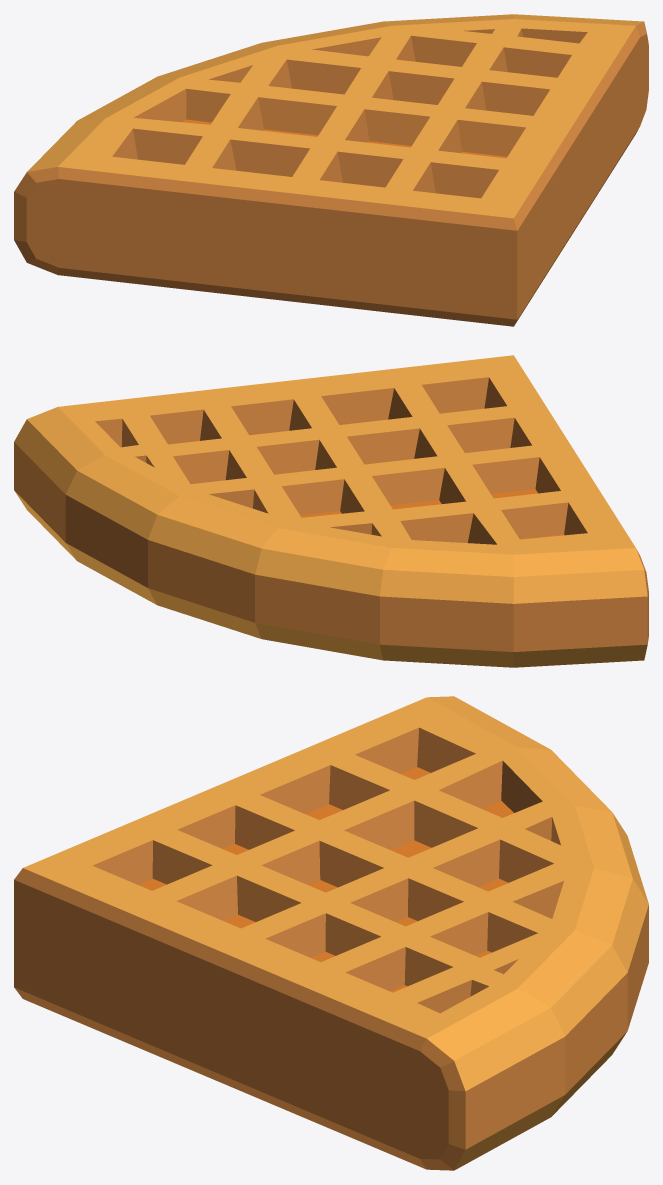
The model's file is Waffle_One_Piece.fbx.
3 renders of one model, top to bottom at view 1: azimuth 30°, elevation 25°; view 2: azimuth 150°, elevation 25°; view 3: azimuth 270°, elevation 25°, orthographic. The views are drawn at different scales.
Visible parts, largest first — view 1: Waffle_One_Piece; view 2: Waffle_One_Piece; view 3: Waffle_One_Piece.
Part boxes in pixels (x1=…): Waffle_One_Piece: x1=14, y1=14, x2=648, y2=326; Waffle_One_Piece: x1=14, y1=355, x2=648, y2=667; Waffle_One_Piece: x1=14, y1=696, x2=648, y2=1170.
Bounding box in the file's own units: 9.3 × 1.52 × 6.67.
